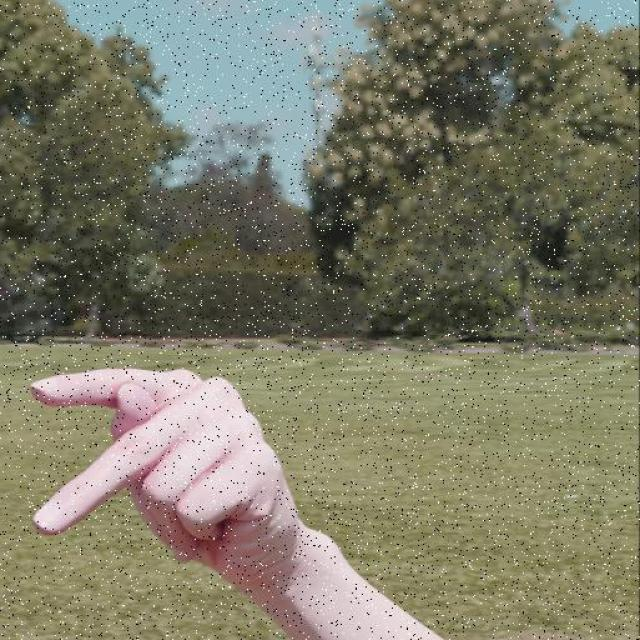P: (25, 364, 308, 594)
